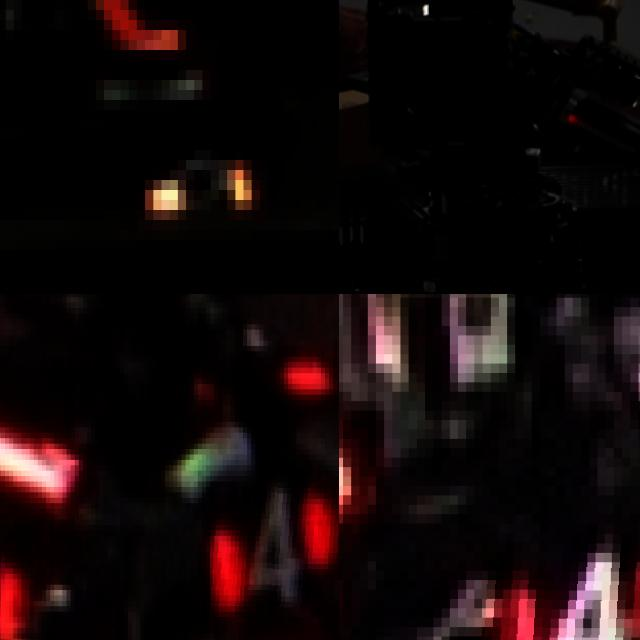R4: (482, 523, 640, 640), (210, 476, 339, 617)
